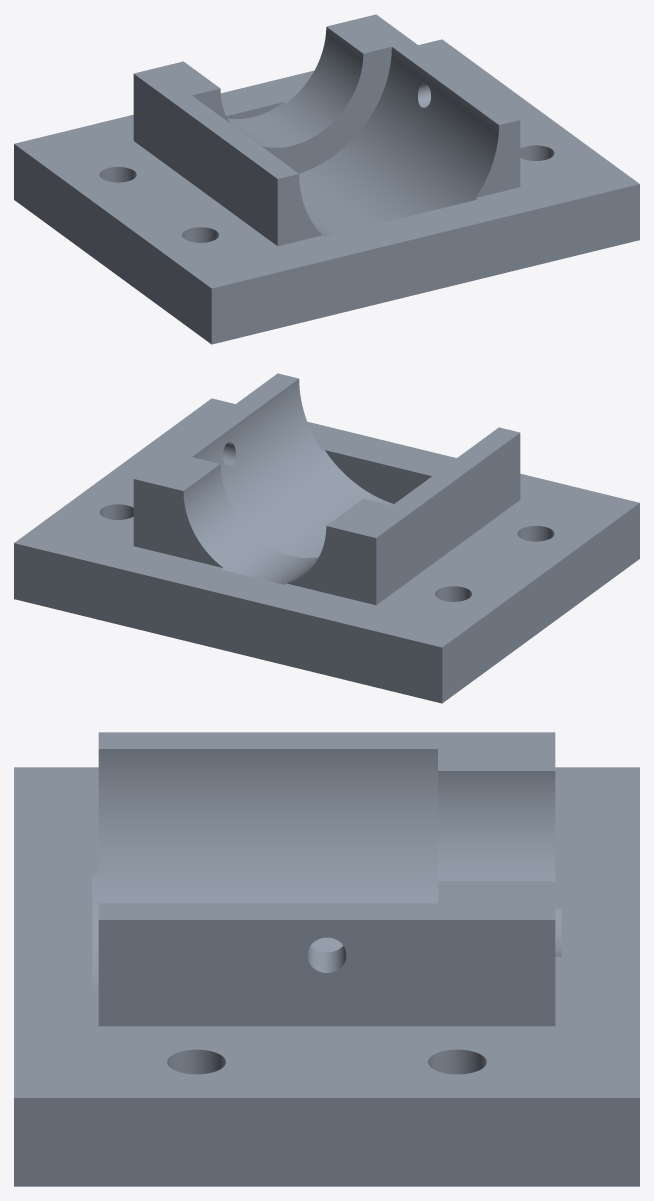
The model's file is ax_saddle_block.glb.
3 renders of one model, top to bottom at view 1: azimuth 30°, elevation 25°; view 2: azimuth 150°, elevation 25°; view 3: azimuth 270°, elevation 25°, orthographic. The views are drawn at different scales.
Visible parts, largest first — view 1: saddle bearing block; view 2: saddle bearing block; view 3: saddle bearing block.
Part boxes in pixels (bbox=[...]): saddle bearing block: bbox=[14, 14, 639, 344]; saddle bearing block: bbox=[14, 373, 639, 703]; saddle bearing block: bbox=[14, 732, 639, 1186].
Bounding box in the file's own units: 120 × 33 × 96.
